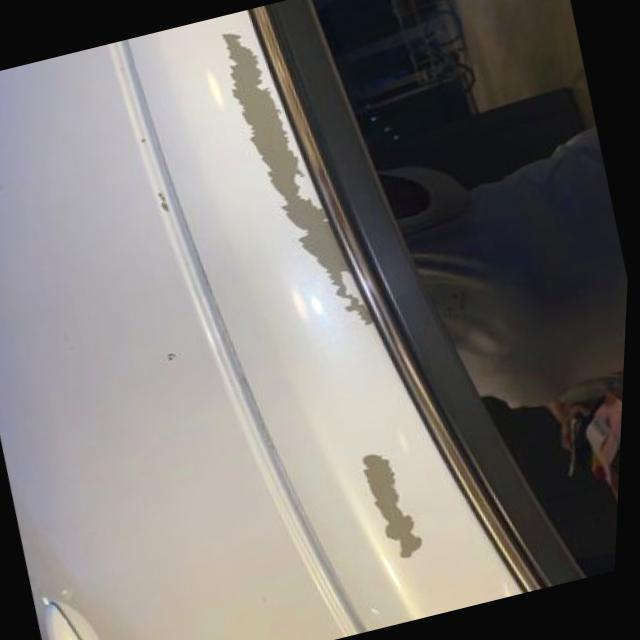Paint-fading: (216, 24, 383, 332), (356, 447, 427, 562)
Scratch: (157, 181, 178, 222)
